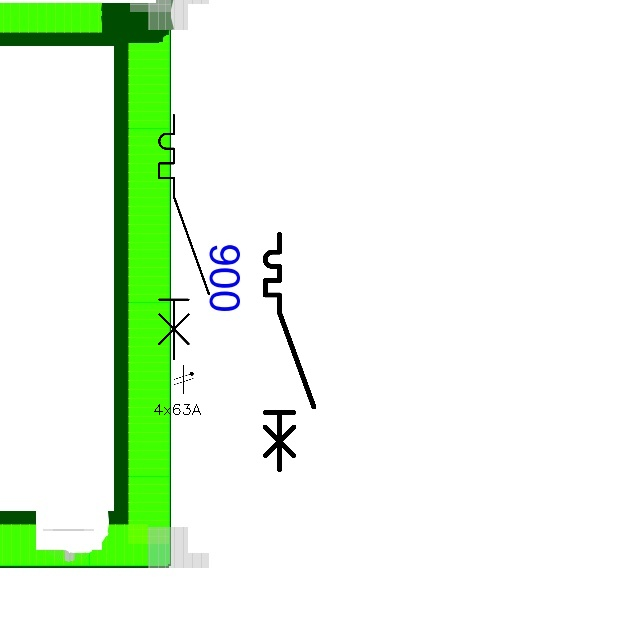interruptor_termomagnetico: (153, 109, 215, 365), (259, 228, 319, 476)
